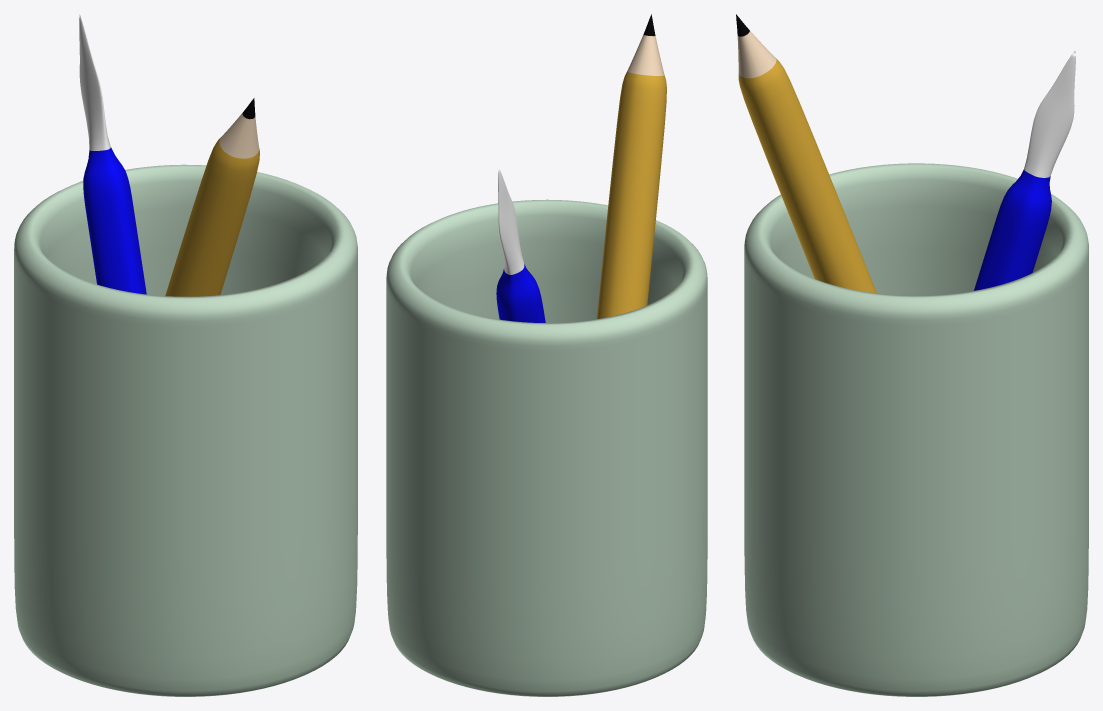
File: PencilCup.fbx
3 views of the same model, side by side, from view 1: azimuth 30°, elevation 25°; view 2: azimuth 150°, elevation 25°; view 3: azimuth 270°, elevation 25° (orthographic). The views are drawn at different scales.
Visible parts, largest first — view 1: PencilCup1; view 2: PencilCup1; view 3: PencilCup1.
Boxes of the visible parts, left/top/right/bottom form: PencilCup1: left=14, top=14, right=357, bottom=696; PencilCup1: left=386, top=14, right=707, bottom=696; PencilCup1: left=736, top=14, right=1088, bottom=696.
Bounding box in the file's own units: 1.39 × 2.68 × 1.42.
